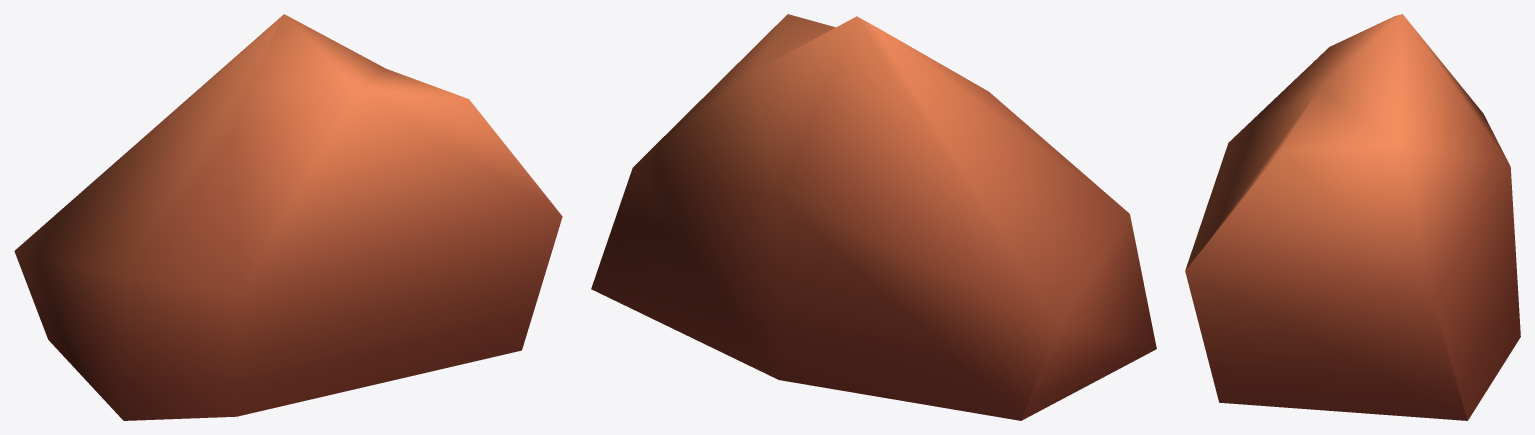
File: rock.003.fbx
3 views of the same model, side by side, from view 1: azimuth 30°, elevation 25°; view 2: azimuth 150°, elevation 25°; view 3: azimuth 270°, elevation 25° (orthographic). The views are drawn at different scales.
Parts seen in each view (by area): view 1: rock.003; view 2: rock.003; view 3: rock.003.
Boxes of the visible parts, x1,y1,x2,y2 form: rock.003: (14,14,562,420); rock.003: (591,14,1156,420); rock.003: (1185,14,1520,420).
Size of the model in its own units: 3.62 by 2.35 by 2.28.
